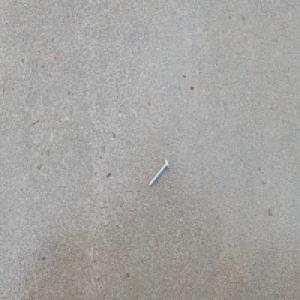Nail: (147, 158, 168, 188)
